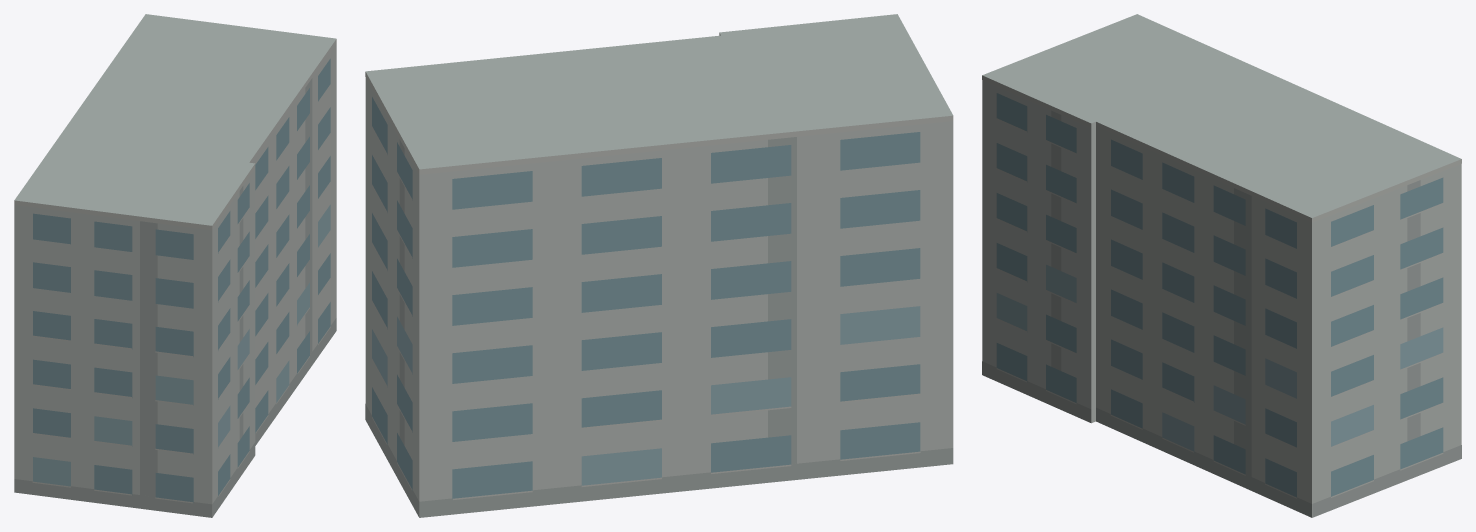
Rendered from survey-upis-32840482.glb.
The picture shows the model from 3 angles, left to right: view 1: azimuth 30°, elevation 25°; view 2: azimuth 150°, elevation 25°; view 3: azimuth 270°, elevation 25°; orthographic projection. The views are drawn at different scales.
Parts seen in each view (by area): view 1: survey-upis-32840482.tmp; view 2: survey-upis-32840482.tmp; view 3: survey-upis-32840482.tmp.
Boxes of the visible parts, x1,y1,x2,y2 form: survey-upis-32840482.tmp: (14, 14, 336, 517); survey-upis-32840482.tmp: (365, 14, 953, 517); survey-upis-32840482.tmp: (982, 14, 1461, 517).
Size of the model in its own units: 22.64 by 15.5 by 22.49.
